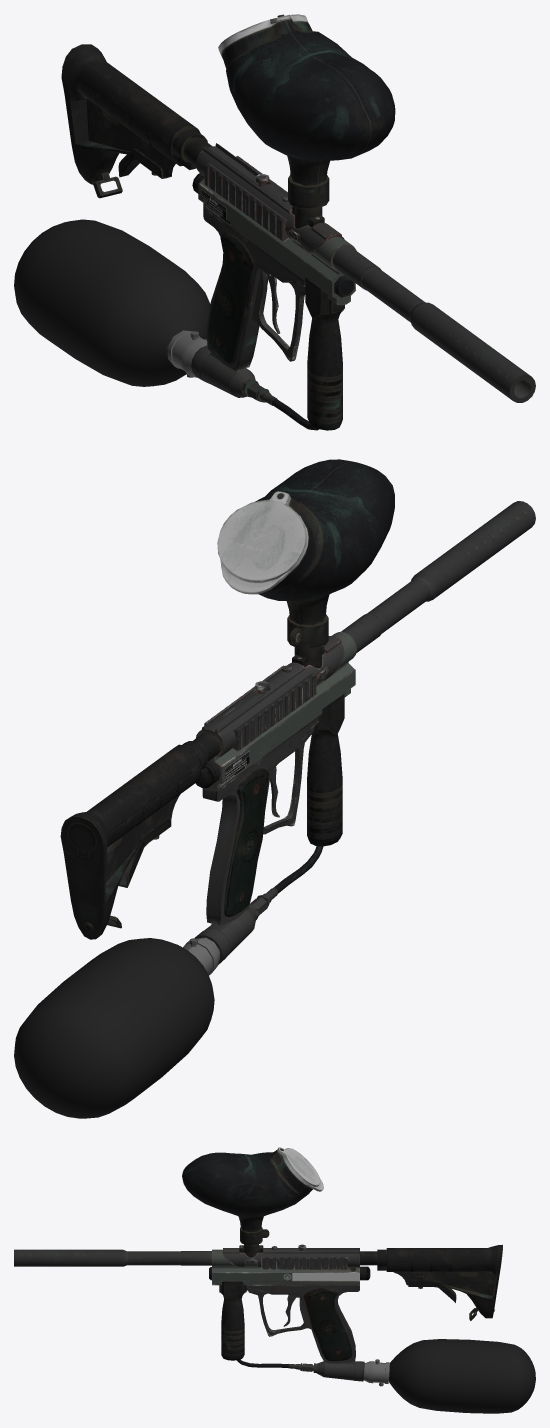
3 renders of one model, top to bottom at view 1: azimuth 30°, elevation 25°; view 2: azimuth 150°, elevation 25°; view 3: azimuth 270°, elevation 25°, orthographic. The views are drawn at different scales.
Visible parts, largest first — view 1: Decal logo, real gas tank, gas Cylinder.; view 2: Decal logo, real gas tank, gas Cylinder.; view 3: Decal logo, real gas tank, gas Cylinder..
Boxes of the visible parts, x1=… form: Decal logo: x1=61, y1=14, x2=535, y2=430; real gas tank: x1=14, y1=219, x2=210, y2=386; gas Cylinder.: x1=167, y1=330, x2=207, y2=377; Decal logo: x1=60, y1=459, x2=535, y2=964; real gas tank: x1=14, y1=938, x2=214, y2=1118; gas Cylinder.: x1=183, y1=937, x2=219, y2=975; Decal logo: x1=14, y1=1147, x2=502, y2=1381; real gas tank: x1=389, y1=1339, x2=535, y2=1413; gas Cylinder.: x1=363, y1=1361, x2=389, y2=1383.
Size of the model in its own units: 0.1204 by 0.4405 by 0.797.
4 materials, 1 textured.
